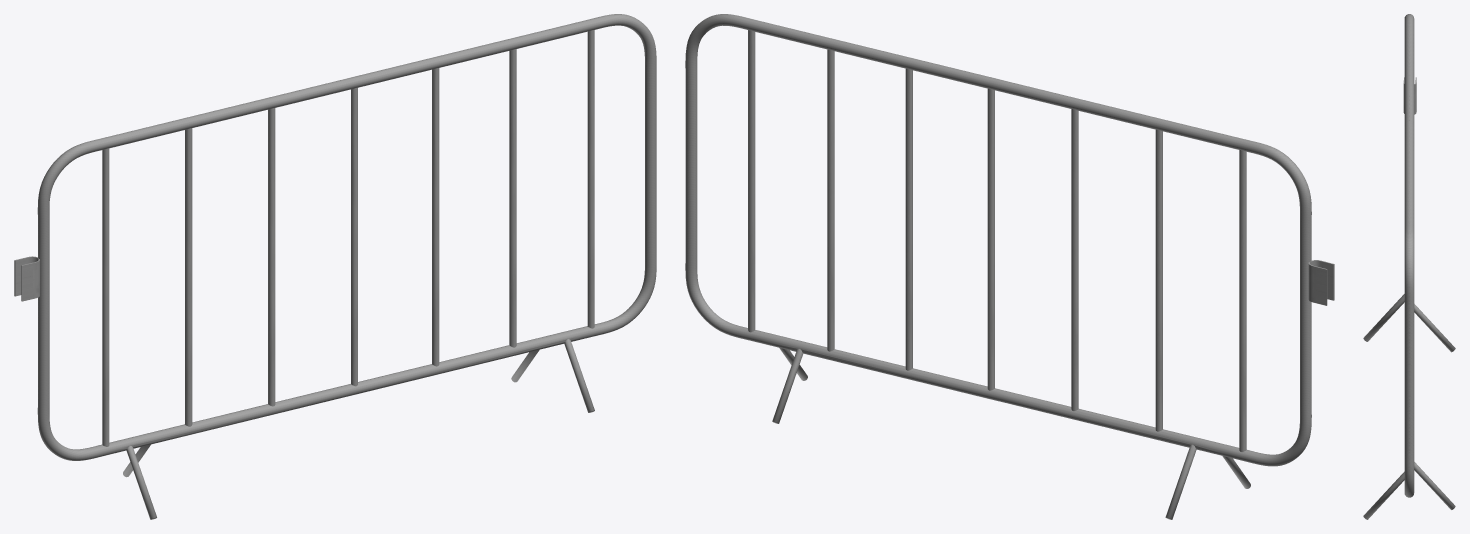
File: border.glb
3 views of the same model, side by side, from view 1: azimuth 30°, elevation 25°; view 2: azimuth 150°, elevation 25°; view 3: azimuth 270°, elevation 25° (orthographic). The views are drawn at different scales.
Parts seen in each view (by area): view 1: Absperrung; view 2: Absperrung; view 3: Absperrung.
Boxes of the visible parts, x1,y1,x2,y2 form: Absperrung: [14, 14, 656, 519]; Absperrung: [685, 14, 1334, 519]; Absperrung: [1363, 14, 1455, 519].
Bounding box in the file's own units: 104 × 57.56 × 15.67.
1 material, 1 textured.
